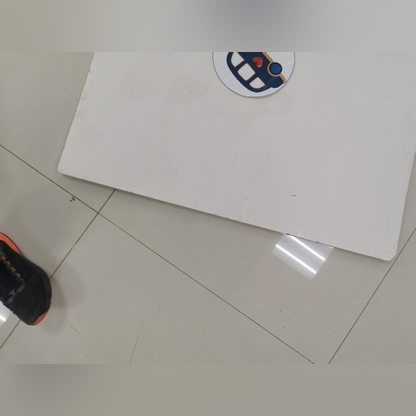car: (221, 48, 296, 100)
